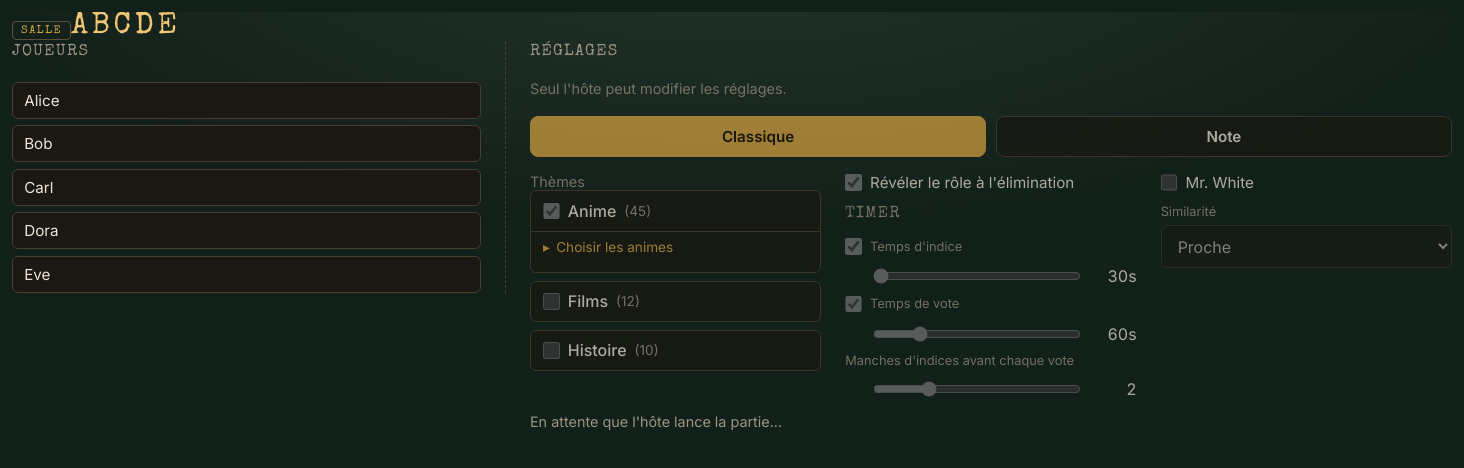
it: LobbyScreen › lets non-host viewers still expand the read-only anime series panel
Click the button "▸ Choisir les animes" at (608, 247), box [543,239,673,255]
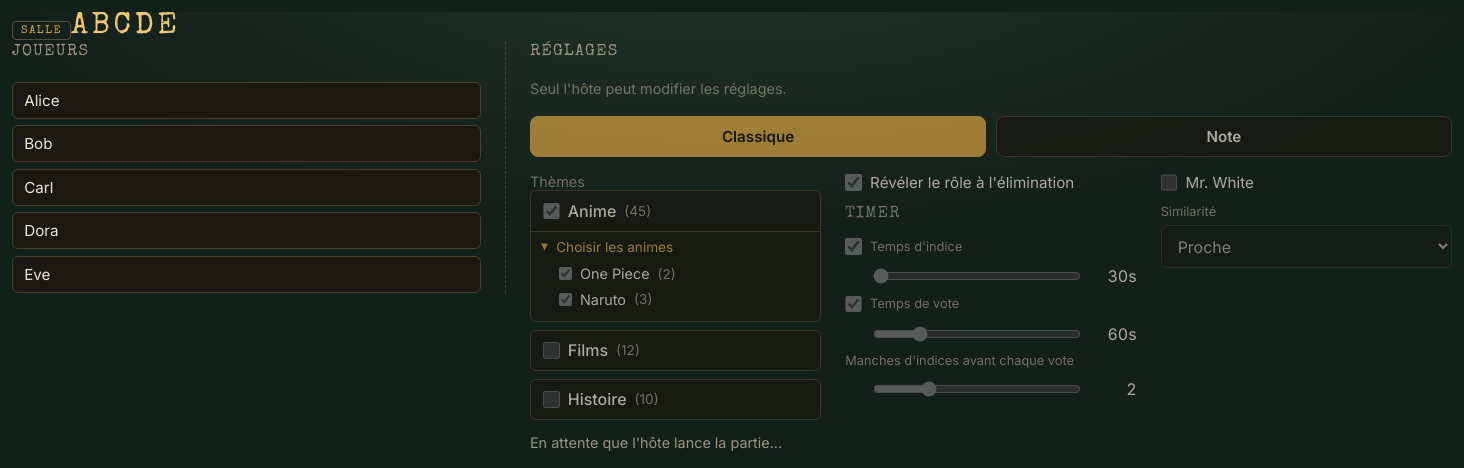
Result: the button "▸ Choisir les animes" is expanded at [538,239,673,255]
